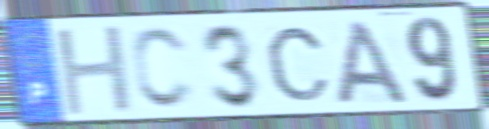3: (199, 20, 262, 112)
9: (406, 14, 464, 105)
A: (334, 18, 412, 106)
C: (128, 25, 198, 113), (263, 24, 334, 104)
H: (52, 22, 138, 119)
